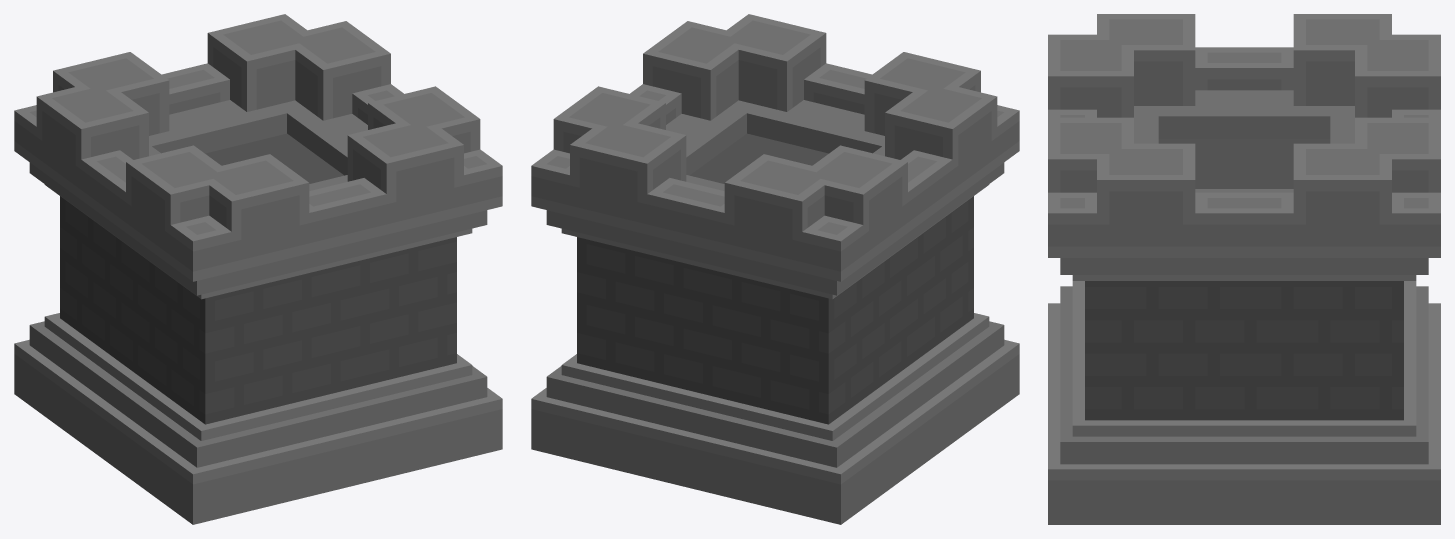
The model's file is SquareTower.glb.
The picture shows the model from 3 angles, left to right: view 1: azimuth 30°, elevation 25°; view 2: azimuth 150°, elevation 25°; view 3: azimuth 270°, elevation 25°; orthographic projection. The views are drawn at different scales.
Visible parts, largest first — view 1: SquareTower; view 2: SquareTower; view 3: SquareTower.
Boxes of the visible parts, x1,y1,x2,y2 form: SquareTower: [14, 14, 502, 524]; SquareTower: [531, 14, 1019, 524]; SquareTower: [1048, 14, 1440, 524].
Bounding box in the file's own units: 32 × 31 × 32.
1 material, 1 textured.
